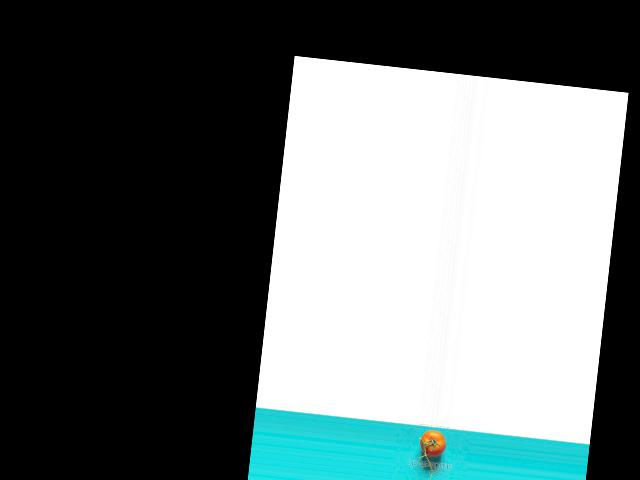tomato: (418, 429, 447, 457)
